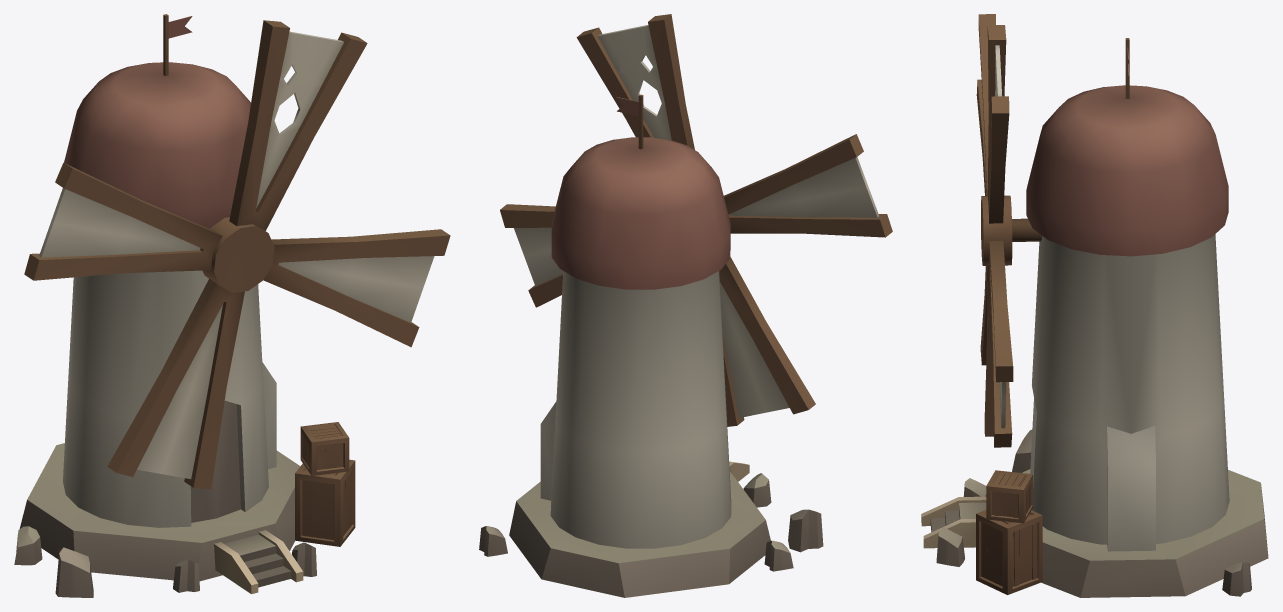
File: windmill.glb
3 views of the same model, side by side, from view 1: azimuth 30°, elevation 25°; view 2: azimuth 150°, elevation 25°; view 3: azimuth 270°, elevation 25° (orthographic). The views are drawn at different scales.
Visible parts, largest first — view 1: body, rotor; view 2: body, rotor; view 3: body, rotor.
Boxes of the visible parts, left/top/right/bottom form: body: left=14, top=14, right=355, bottom=597; rotor: left=24, top=20, right=450, bottom=489; body: left=479, top=94, right=823, bottom=597; rotor: left=500, top=14, right=892, bottom=426; body: left=921, top=38, right=1268, bottom=597; rotor: left=976, top=14, right=1013, bottom=447.
Size of the model in its own units: 7.93 by 9.56 by 5.64.
